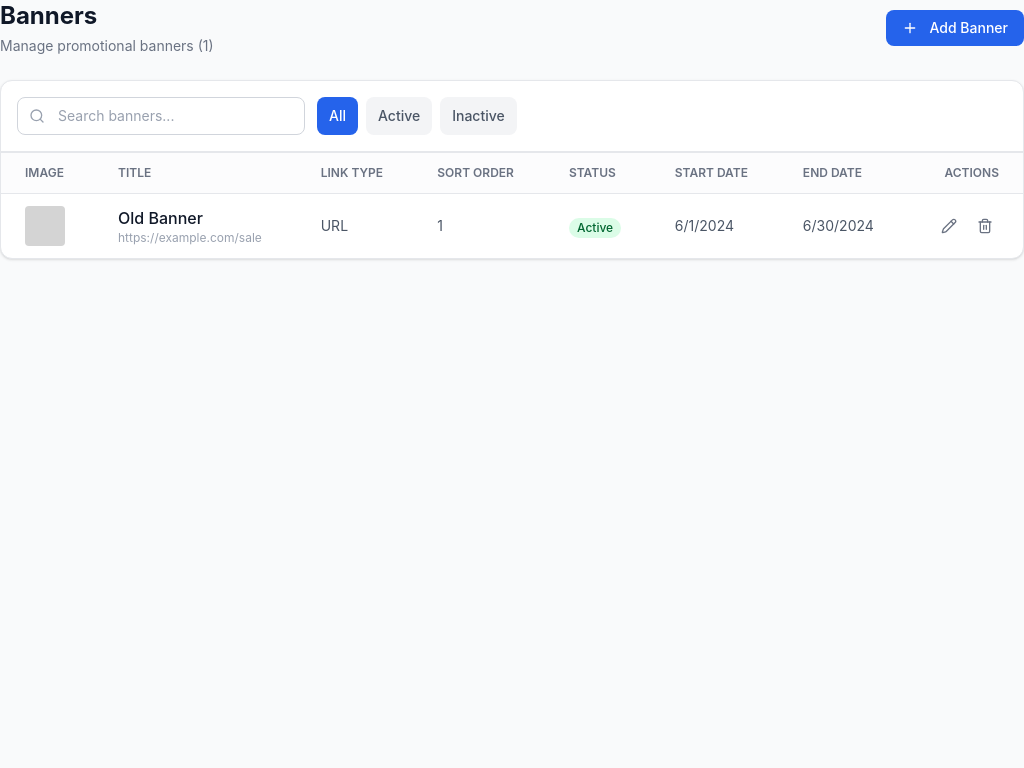
BannersPage › delete confirmation modal opens on trash icon click
Expected: the text "Old Banner" is shown, [118,208,203,228]
Step 1. Click the 6th button → (985, 226), box [971,212,999,240]
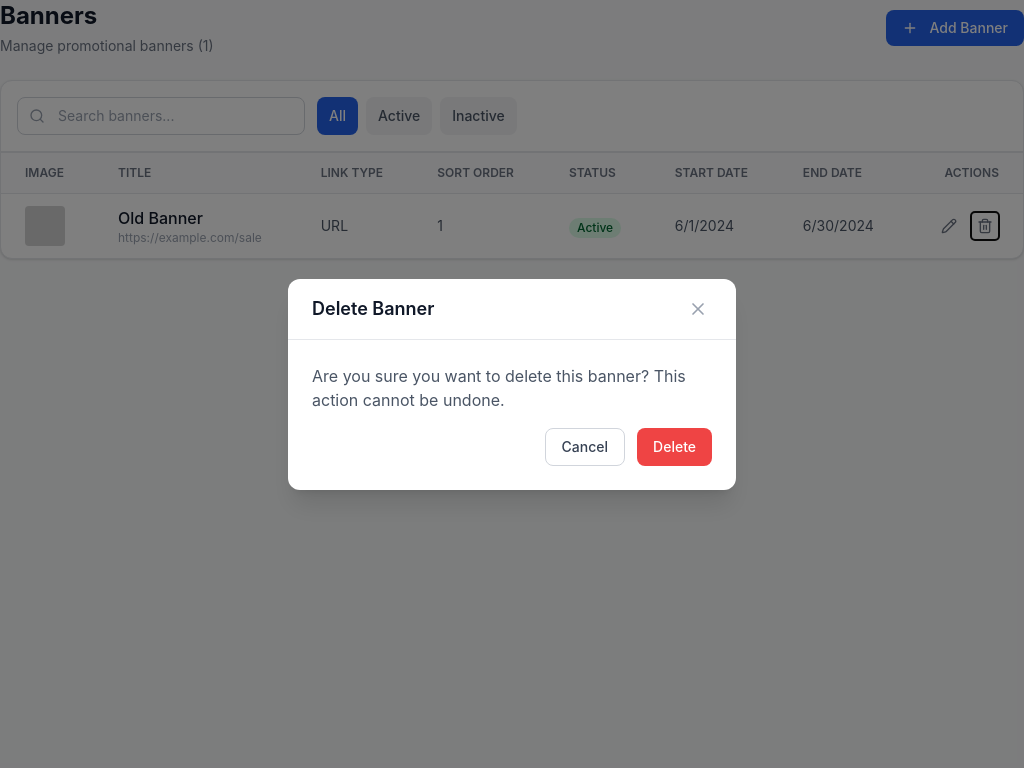
Result: the text "Are you sure you want to delete this banner? This action cannot be undone." is shown at [312,364,712,412]
